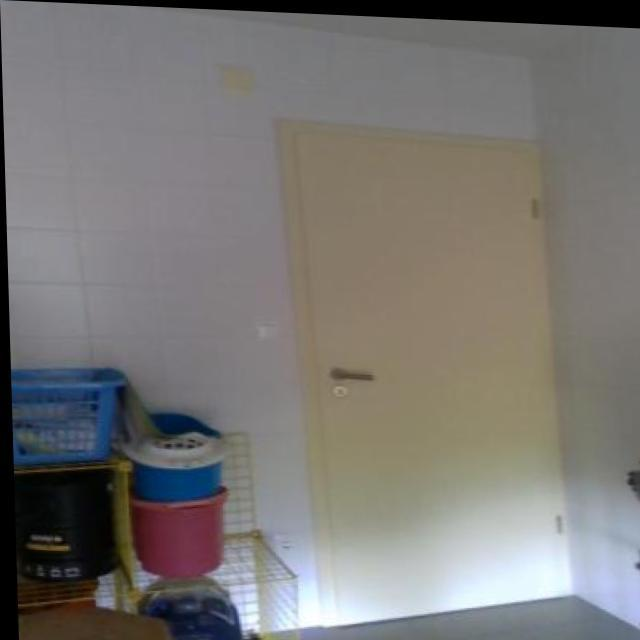door_handle: (324, 360, 383, 386)
